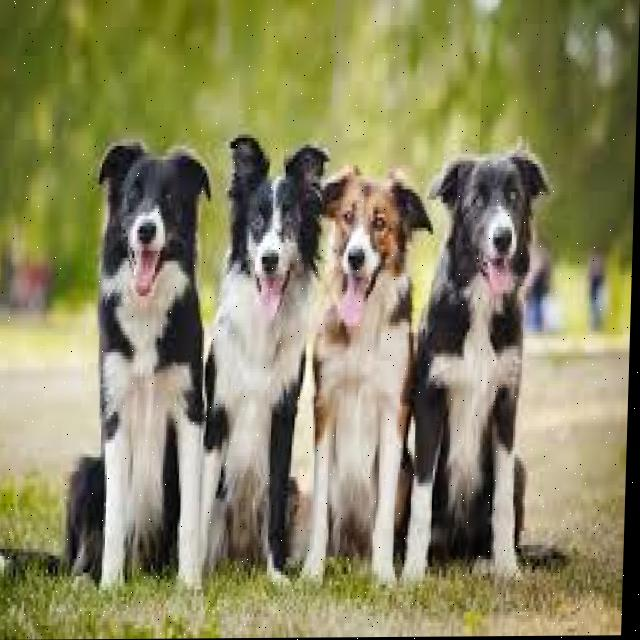BORDER_COLLIE: (389, 128, 560, 605), (61, 122, 226, 607), (196, 131, 331, 613), (313, 151, 431, 606)
